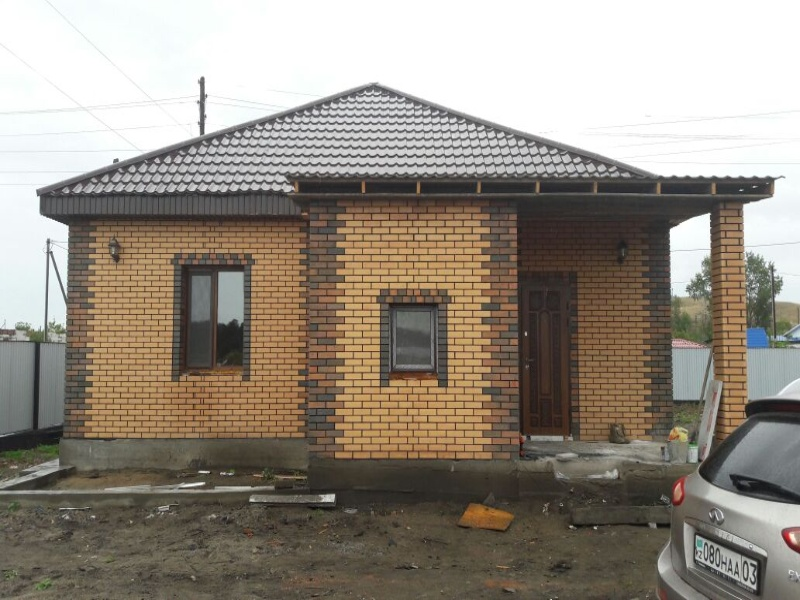window: (172, 252, 251, 379), (386, 292, 441, 380)
